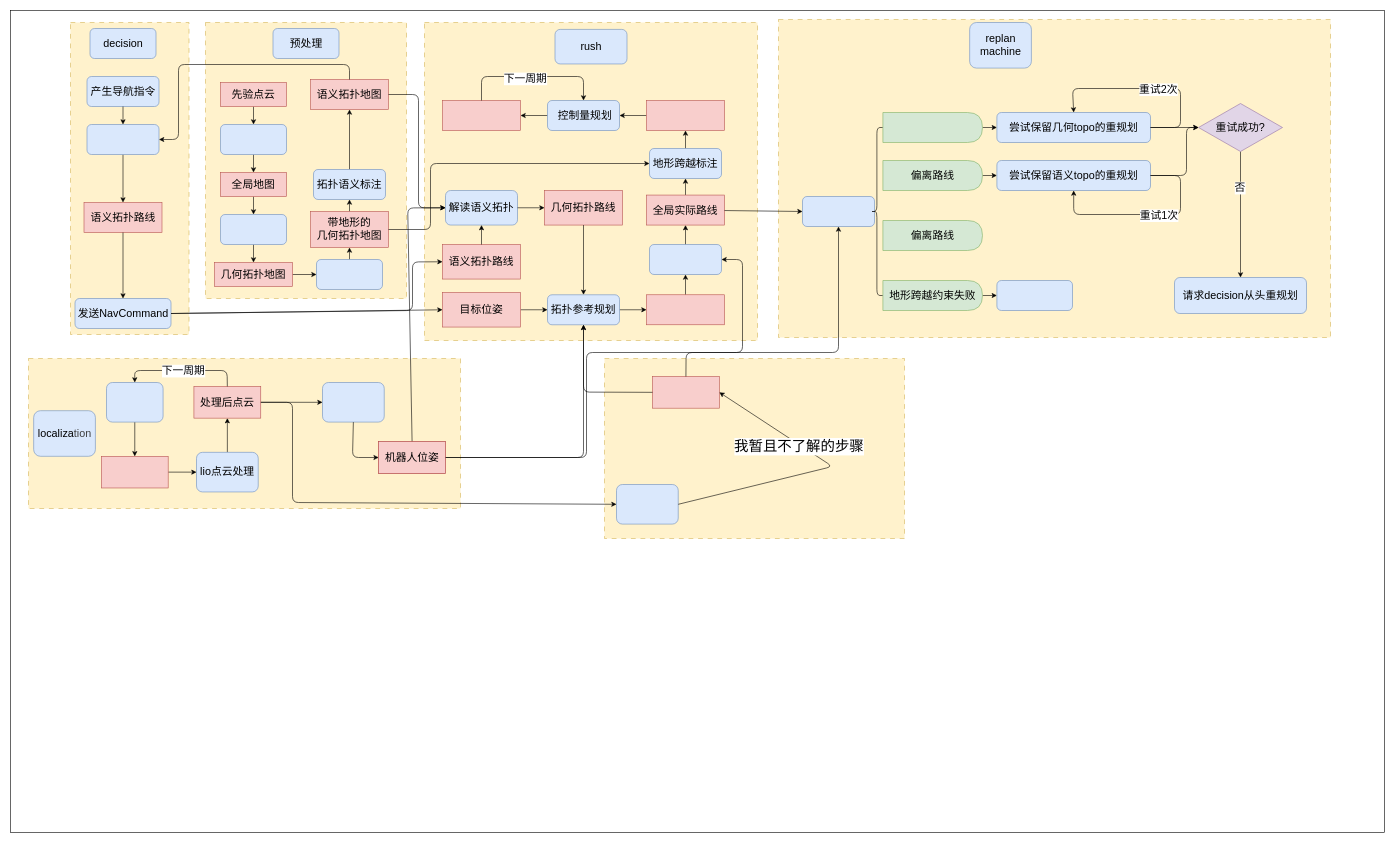
This 1395x843 diagram has some shape labels left out. The centre of each missing label's shape, as x and y in pixels:
"ROG" goes at (647,504).
"初始路线" goes at (685,309).
"原始点云" goes at (134,472).
"地形标注" goes at (349,274).
"定位" goes at (353,402).
"尚无实现" goes at (1034,295).
"局部ESDF场" goes at (685,392).
"带chassis_state的全局路线" goes at (685,115).
"建图模块" goes at (253,139).
"拓扑生成" goes at (253,229).
"控制量+底盘状态" goes at (481,115).
"确认路线状态" goes at (838,211).
"语义拓扑规划" goes at (122,139).
"路线优化" goes at (685,259).
"路线被阻挡" goes at (932,127).
"雷达" goes at (134,402).
